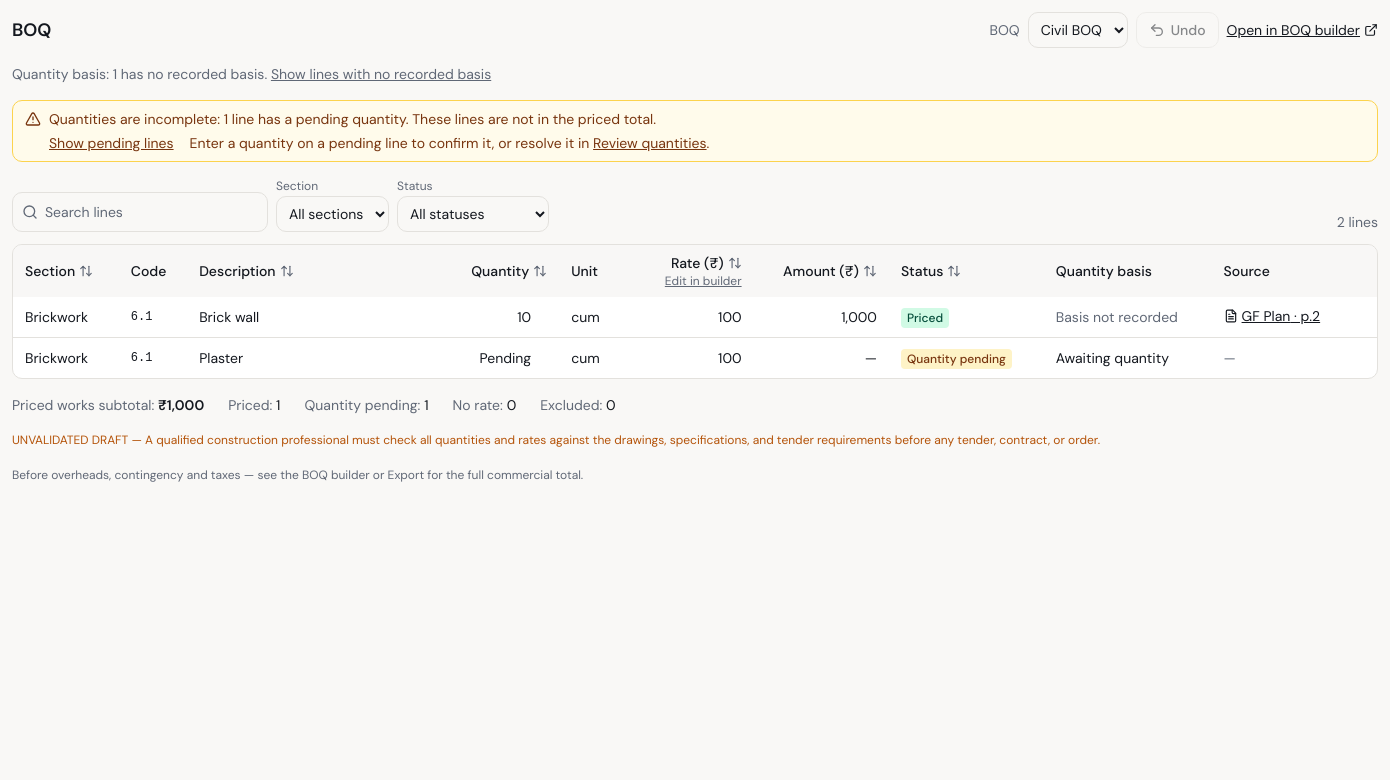
Scenario: ProjectBoq — guarded, recorded quantity edits › workbench: a refused step leaves the stack and is listed as not undone
Click the button "10": coordinates (506, 317) [460,305,551,329]
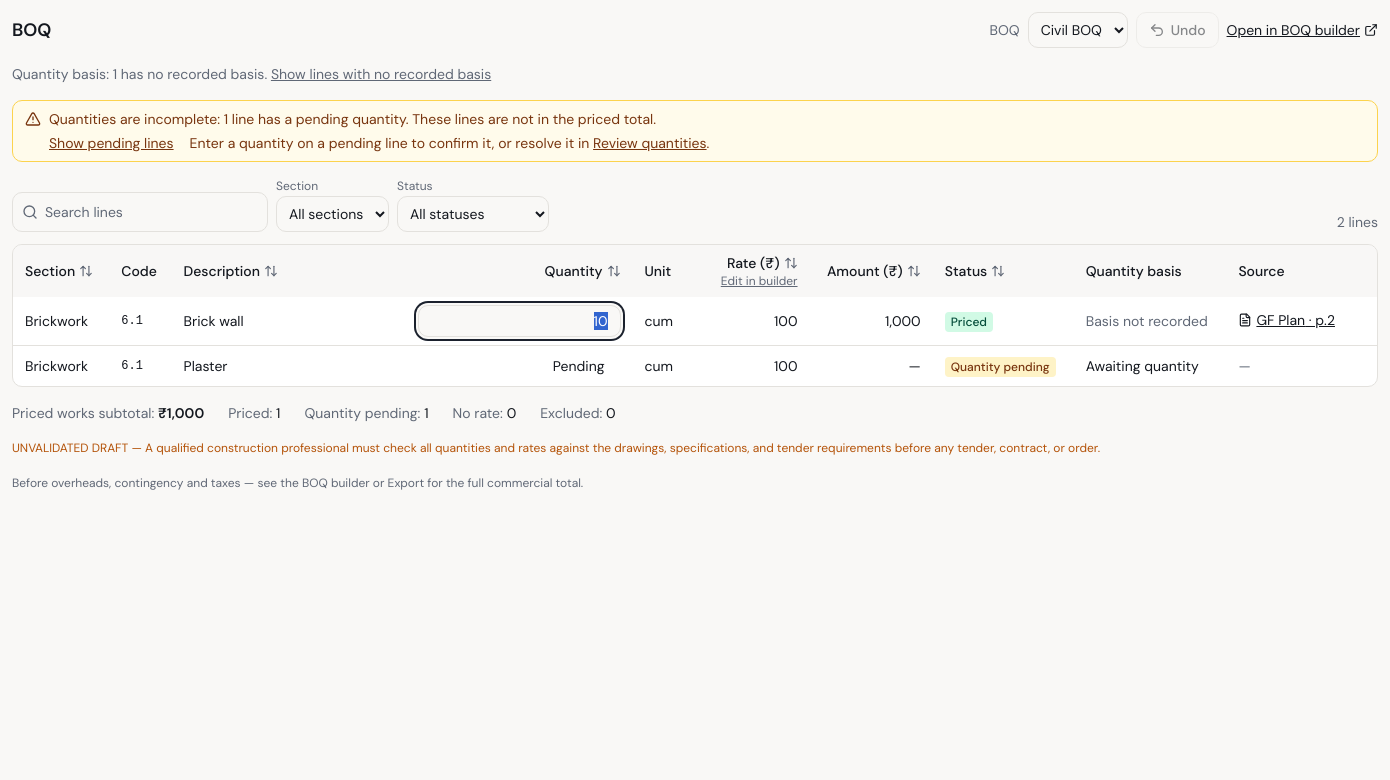
Replace the text in the field named "Quantity for Brick wall" with "12": coordinates (519, 321) [418,305,621,337]
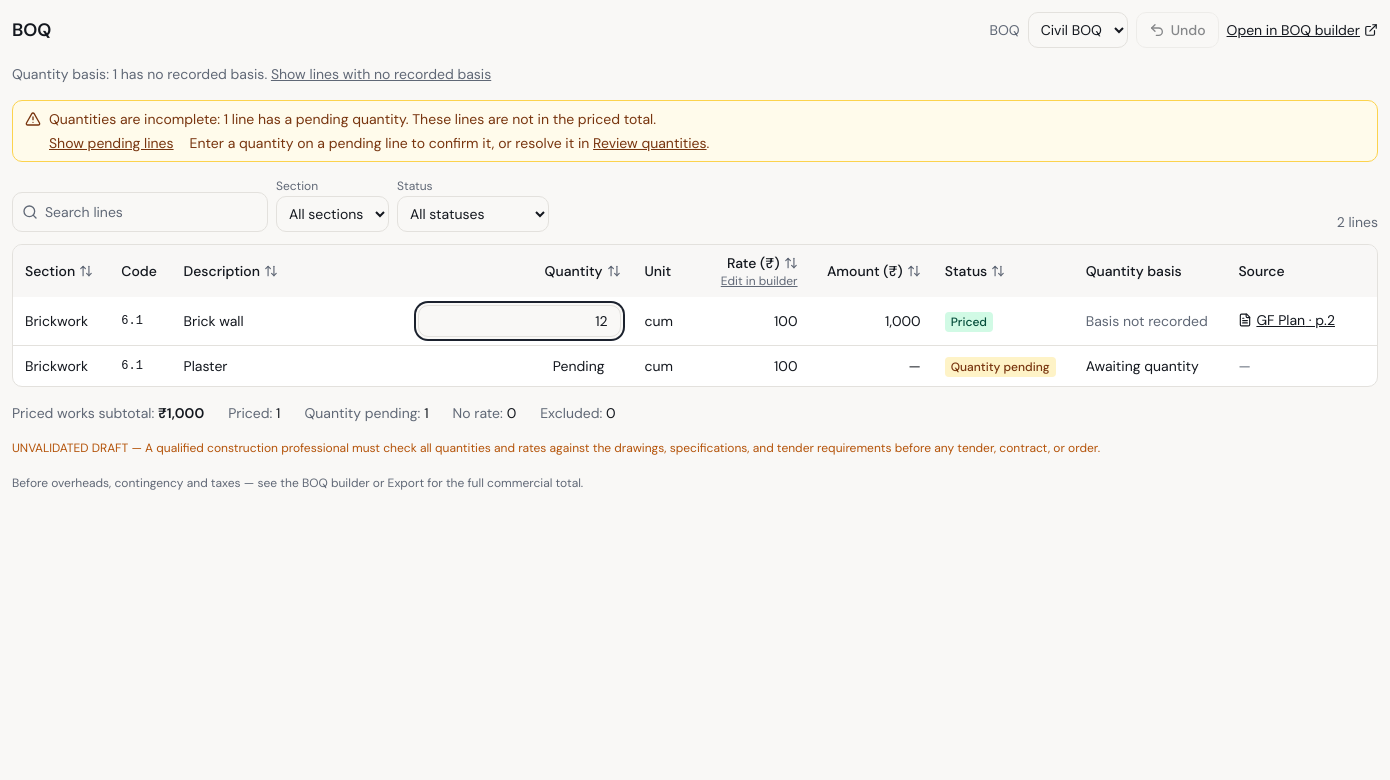
Press Enter in the field named "Quantity for Brick wall", box [418,305,621,337]
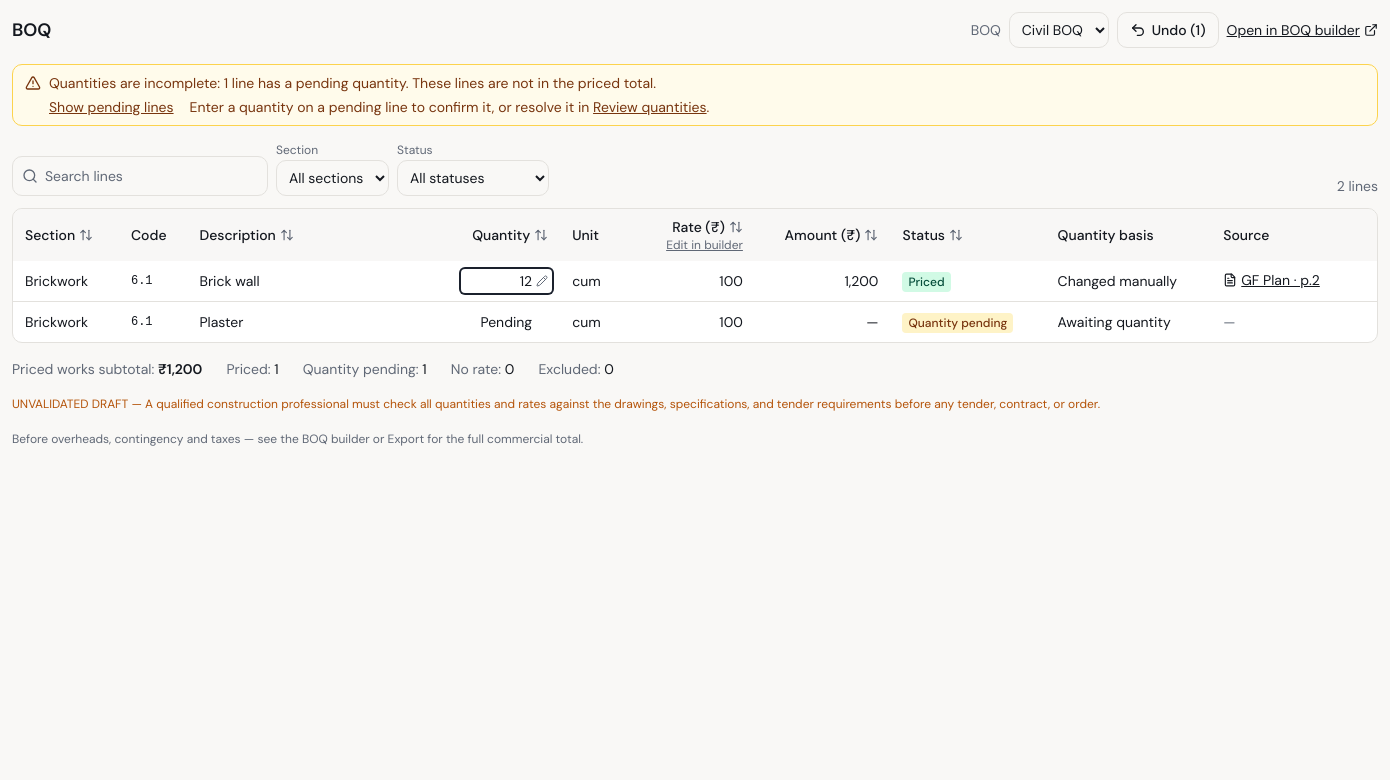
Click the button with aria-label "Undo:": coordinates (1168, 30) [1117,12,1218,48]
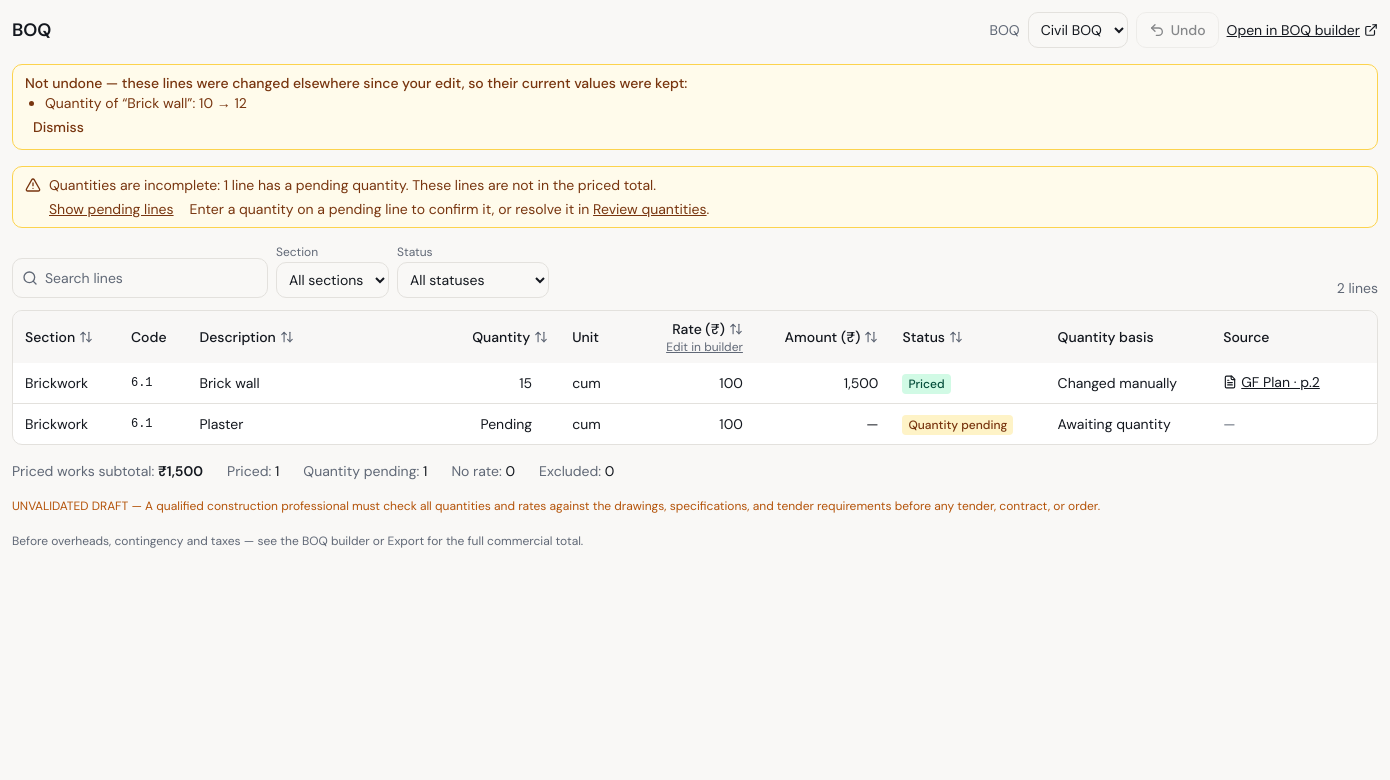
Expected: the button with aria-label "Undo (nothing to undo)" is disabled, [1136,12,1218,48]
Expected: the element named "Changes that could not be undone" shows "Quantity of “Brick wall”: 10 → 12", [45,94,247,112]
